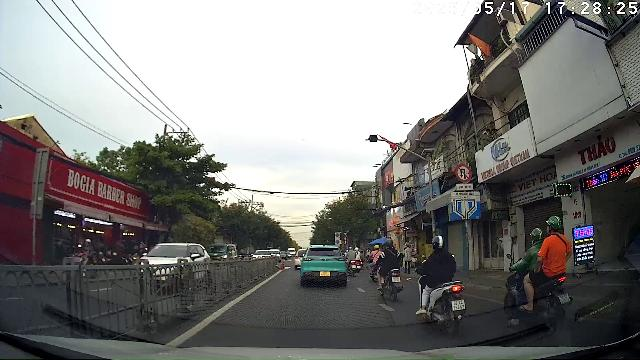124b-cam-oto-quay-dau-xe: (456, 164, 472, 182)
